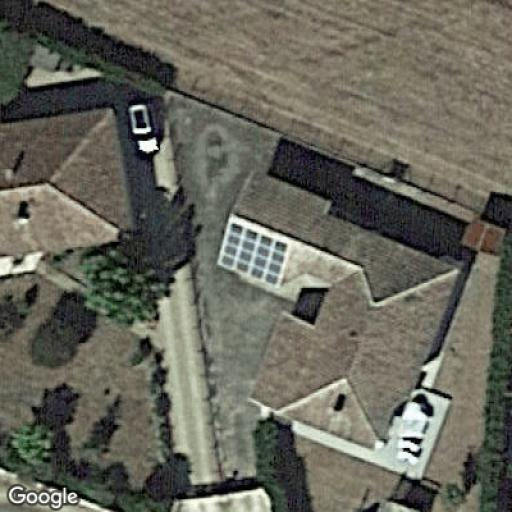solar-panel: (215, 217, 290, 293)
